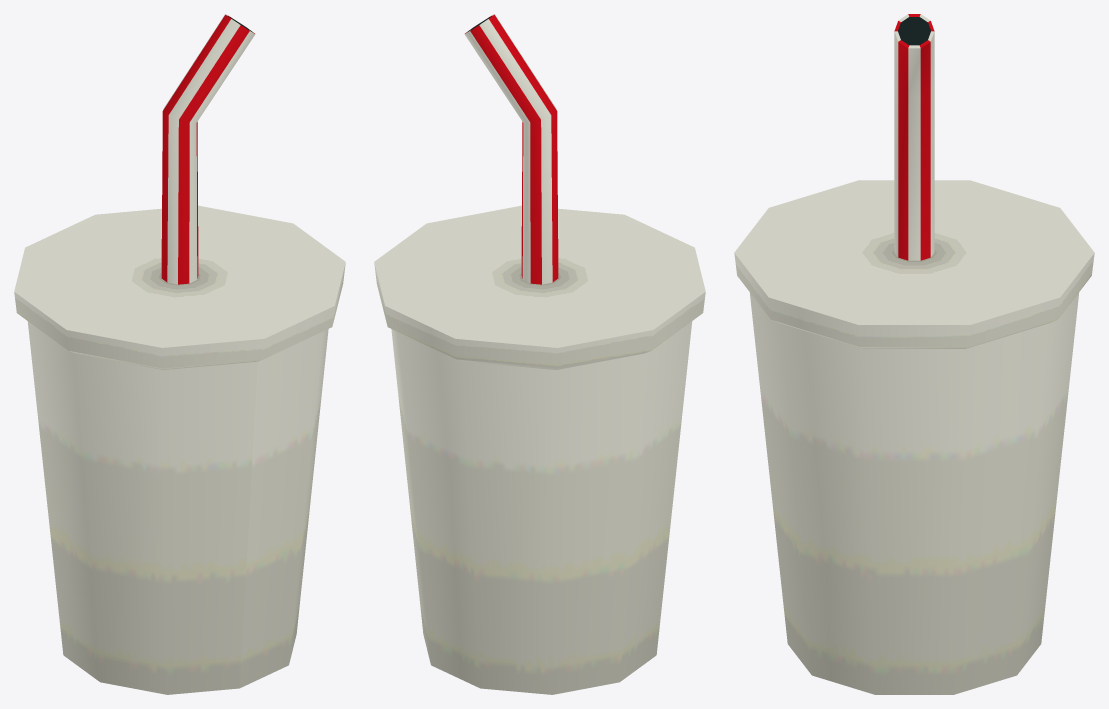
The model's file is lemonade.glb.
3 views of the same model, side by side, from view 1: azimuth 30°, elevation 25°; view 2: azimuth 150°, elevation 25°; view 3: azimuth 270°, elevation 25° (orthographic). The views are drawn at different scales.
Visible parts, largest first — view 1: Lemonade; view 2: Lemonade; view 3: Lemonade.
Part boxes in pixels (x1,y1,x2,y2): Lemonade: [14, 14, 345, 694]; Lemonade: [374, 14, 705, 694]; Lemonade: [734, 14, 1094, 694].
Bounding box in the file's own units: 0.1763 × 0.3717 × 0.1853.
Materials: 1 (1 with a texture image).
